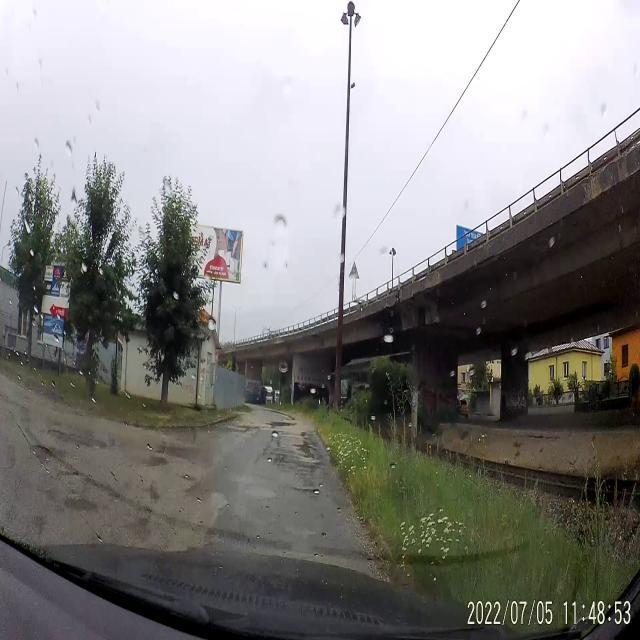Pothole: (30, 442, 60, 470), (298, 428, 316, 472), (292, 484, 322, 499)
